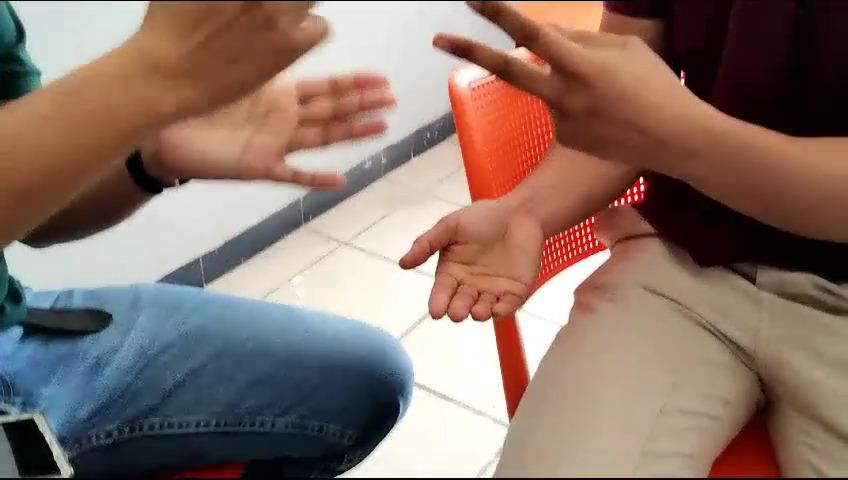Paper: (395, 182, 559, 332)
Scissor: (425, 0, 682, 182)
